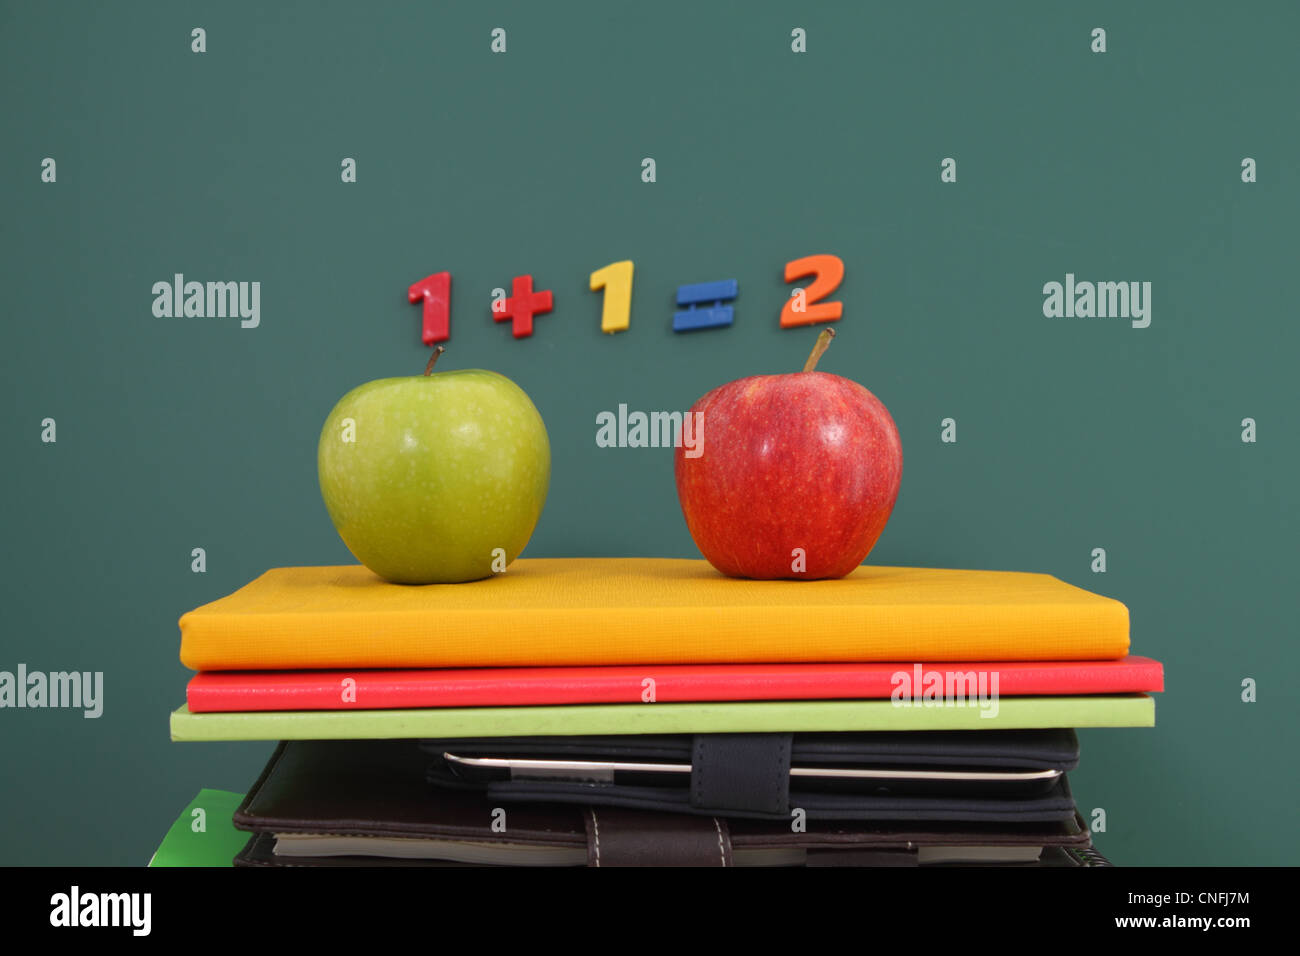book: (206, 563, 1251, 850)
